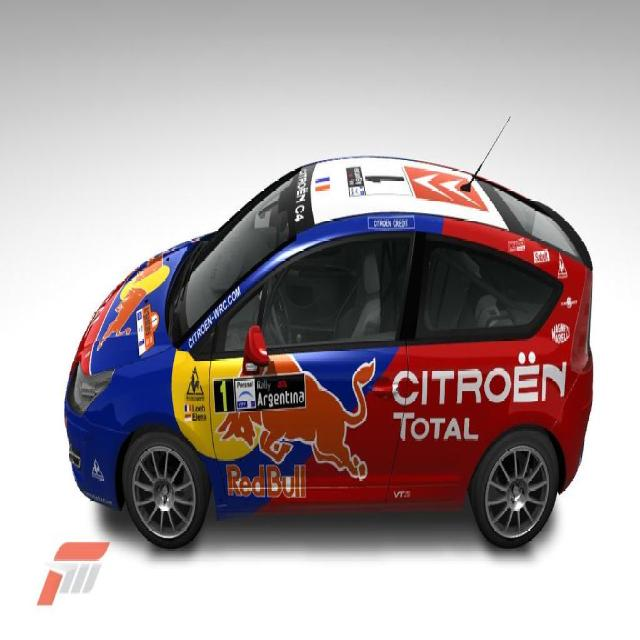car: (71, 134, 587, 574)
